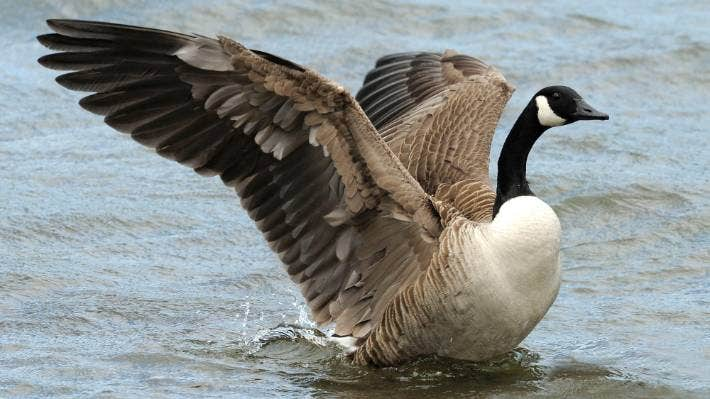goose: (88, 31, 609, 374)
